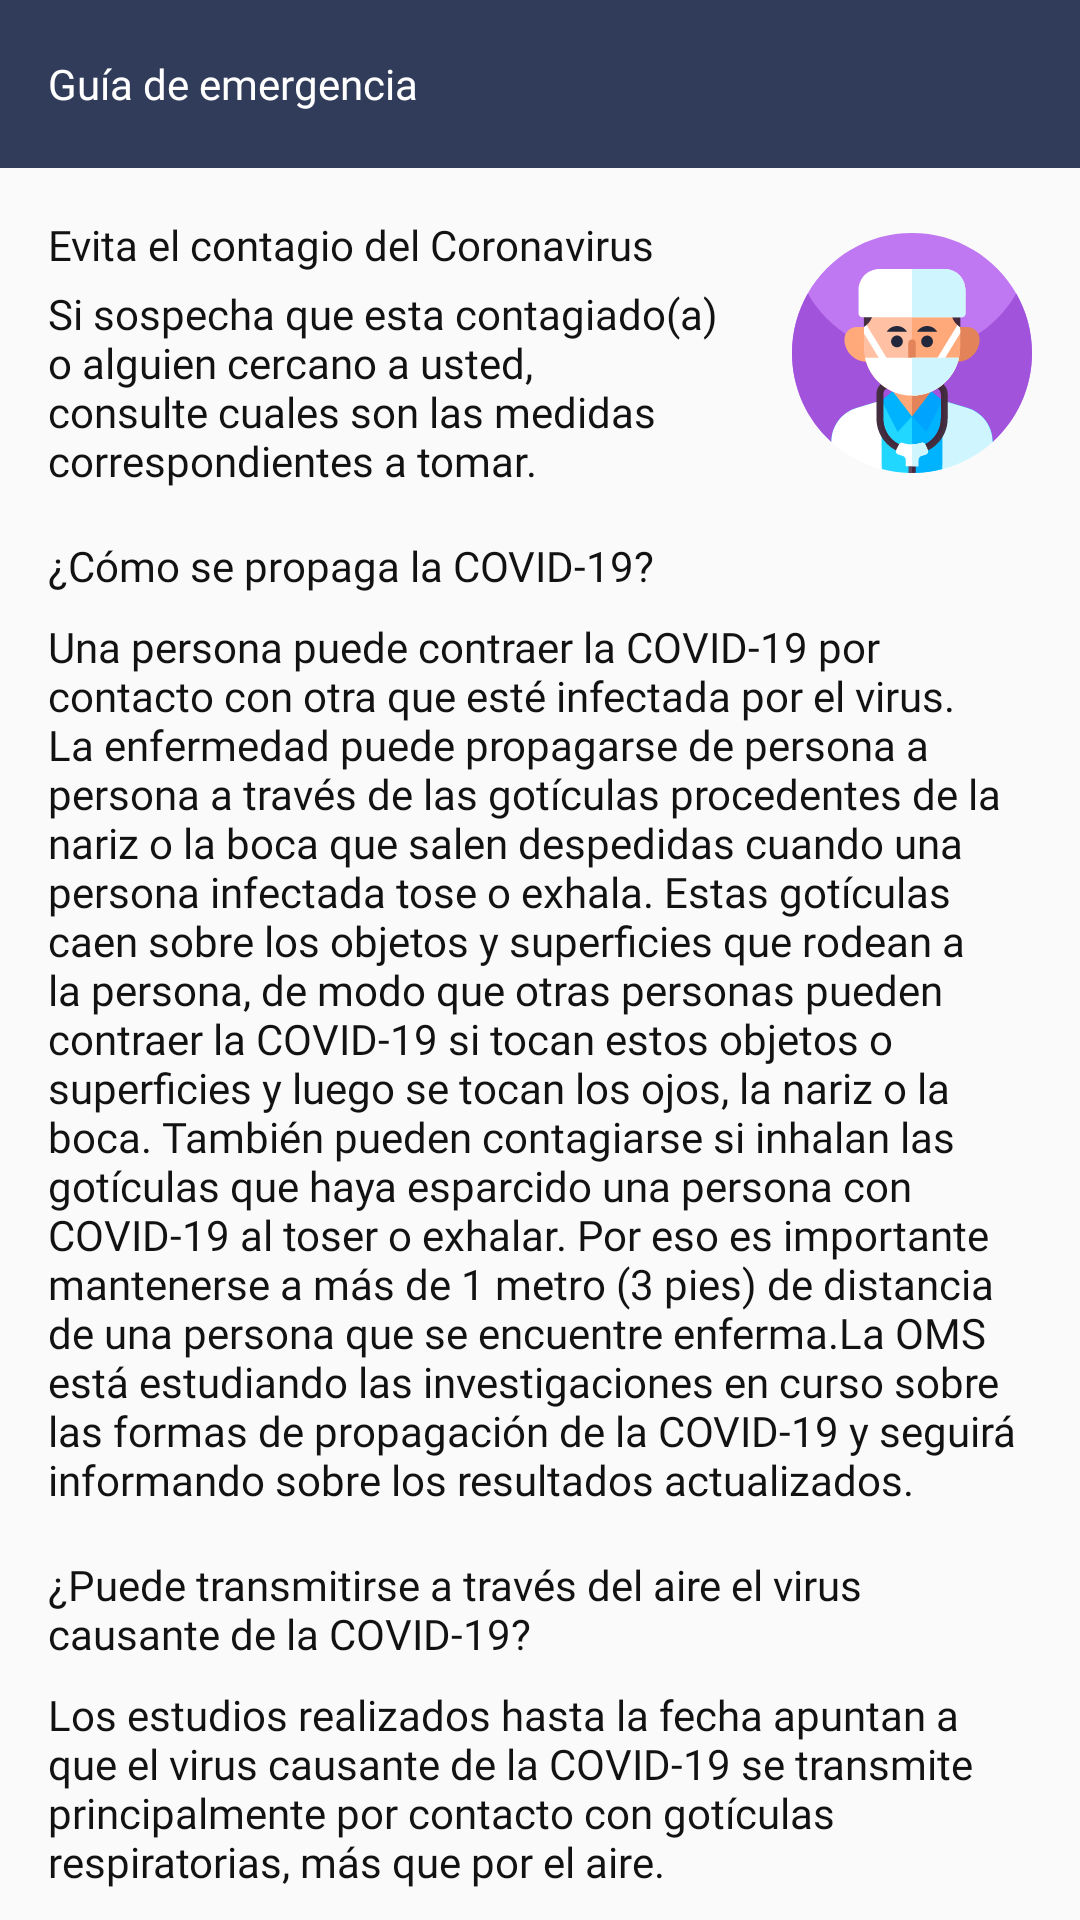

Icons on this 1080*1920 Android screen, each with its box as (x1, y1, x2, y2):
doctor: (792, 233, 1032, 473)
